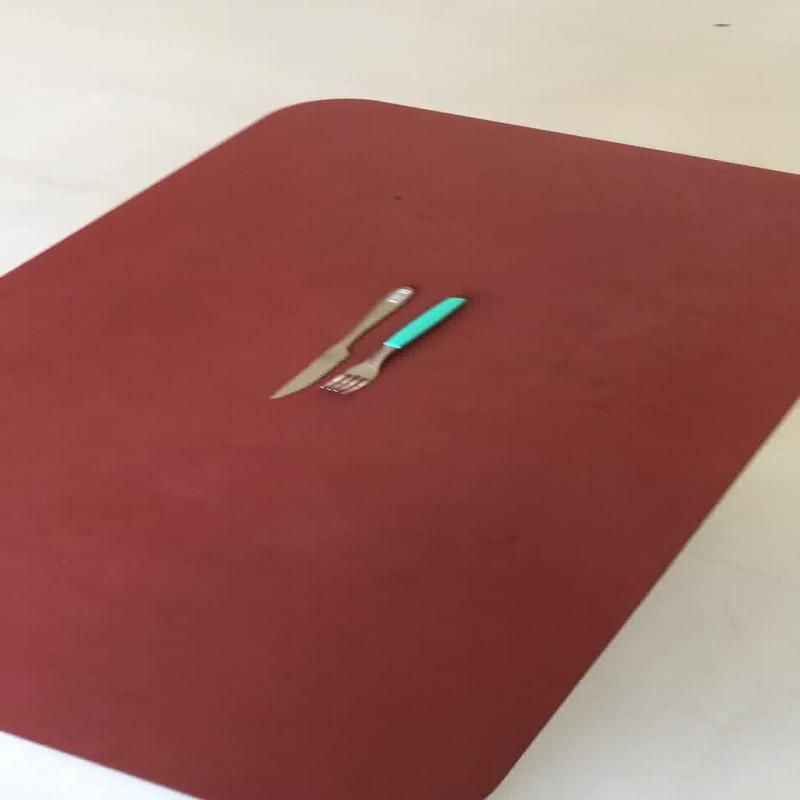fork: (317, 295, 467, 396)
knife: (266, 284, 415, 400)
